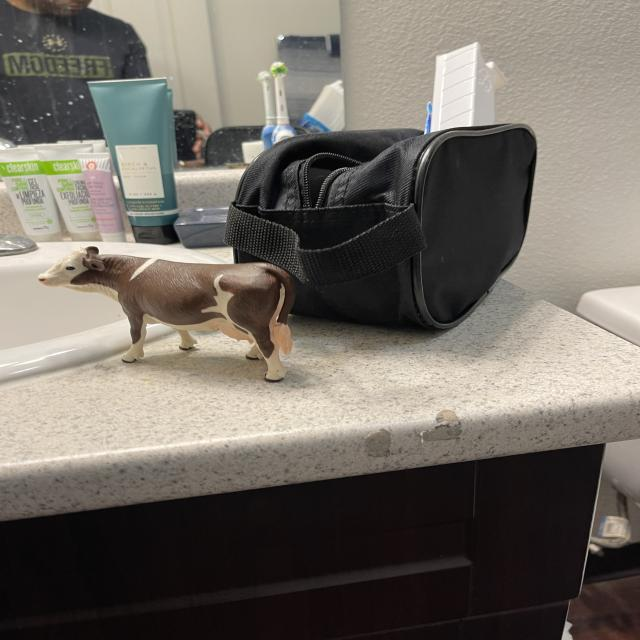cow: (30, 241, 300, 384)
